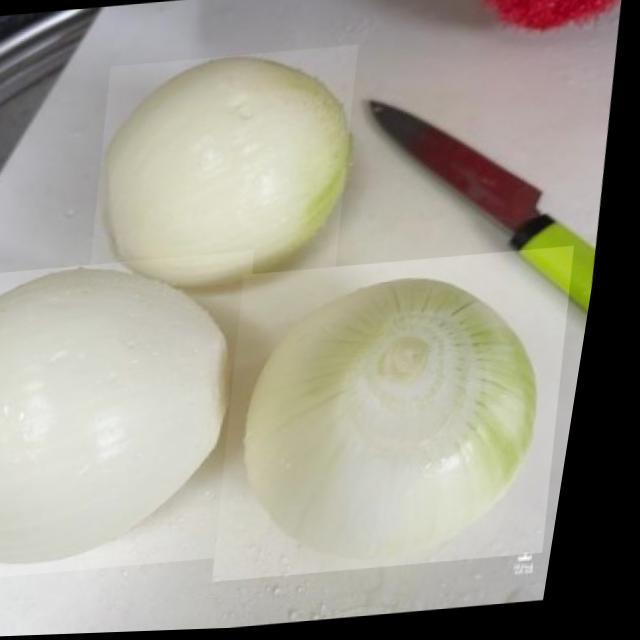Onion: (215, 250, 599, 585), (0, 252, 279, 584), (85, 46, 372, 302)
